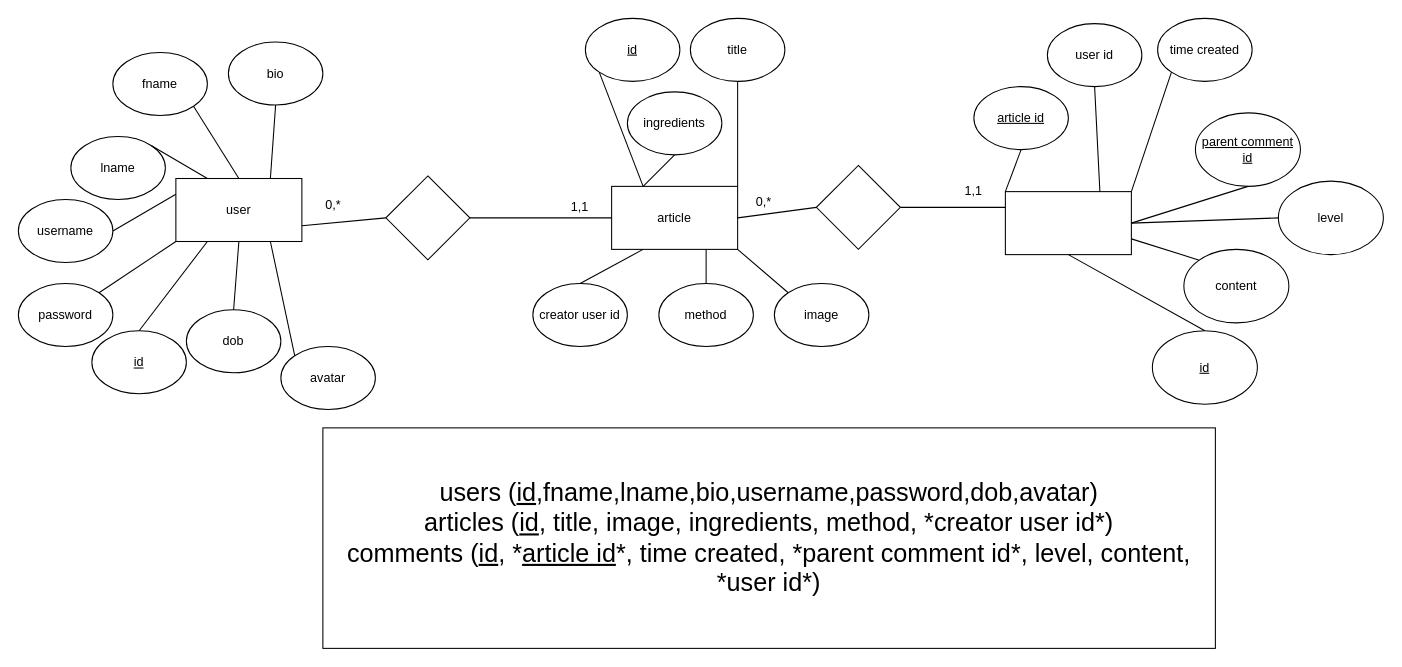
Image size: 1402x667. Some labels were removed from this diagram. Here are the shapes that lost their labels. From the top down, the centre of each, then its label:
At (427,217): "authored".
At (857,206): "has".
At (1067,223): "comments".
